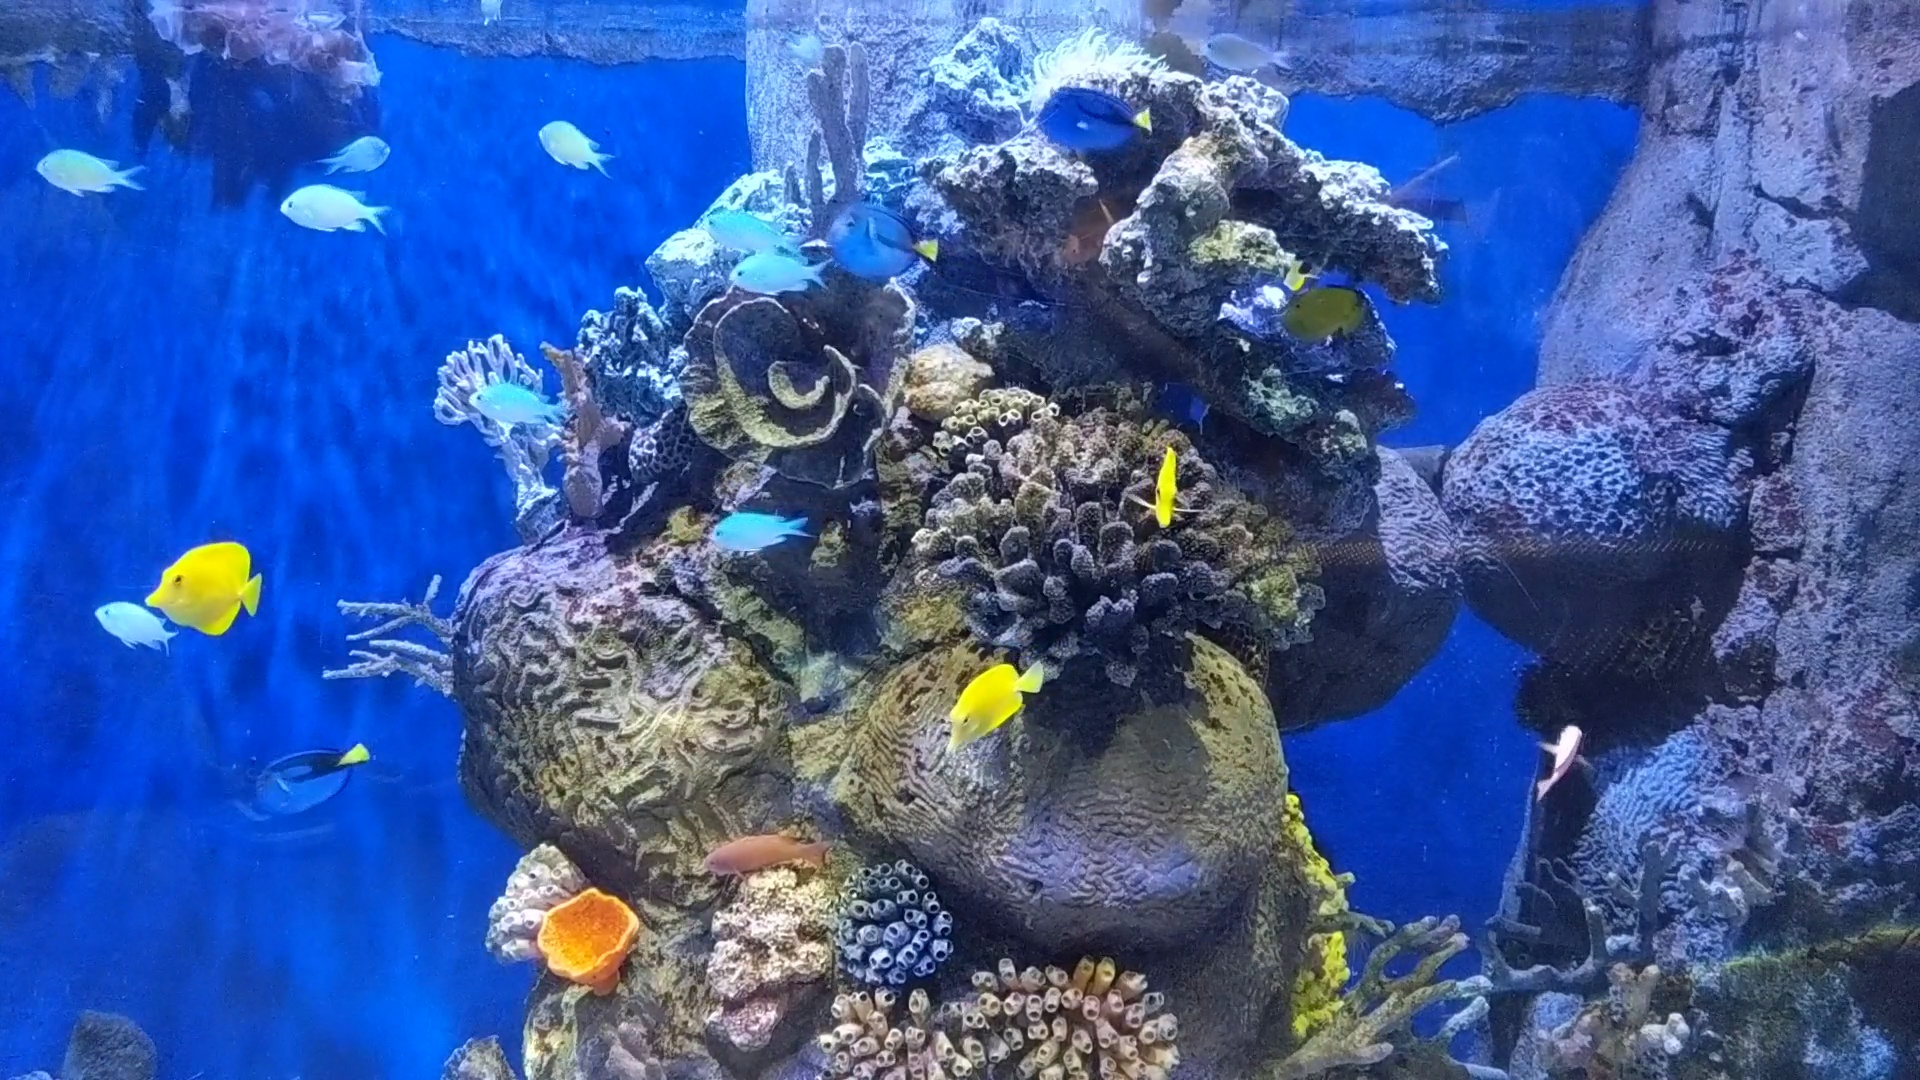blue tang surgeonfish: (808, 181, 961, 291), (228, 732, 380, 833), (1021, 75, 1159, 161)
damselfish: (17, 125, 158, 211), (266, 169, 398, 251), (512, 105, 624, 191), (456, 368, 576, 436), (80, 592, 189, 666), (713, 243, 831, 302), (694, 200, 814, 258), (695, 500, 815, 556), (314, 119, 404, 189), (1185, 36, 1294, 75)
pink fish: (1530, 709, 1596, 804)
saddle butterfly fish: (915, 647, 1062, 758), (131, 541, 270, 642), (1261, 278, 1370, 344), (1139, 438, 1191, 527)
